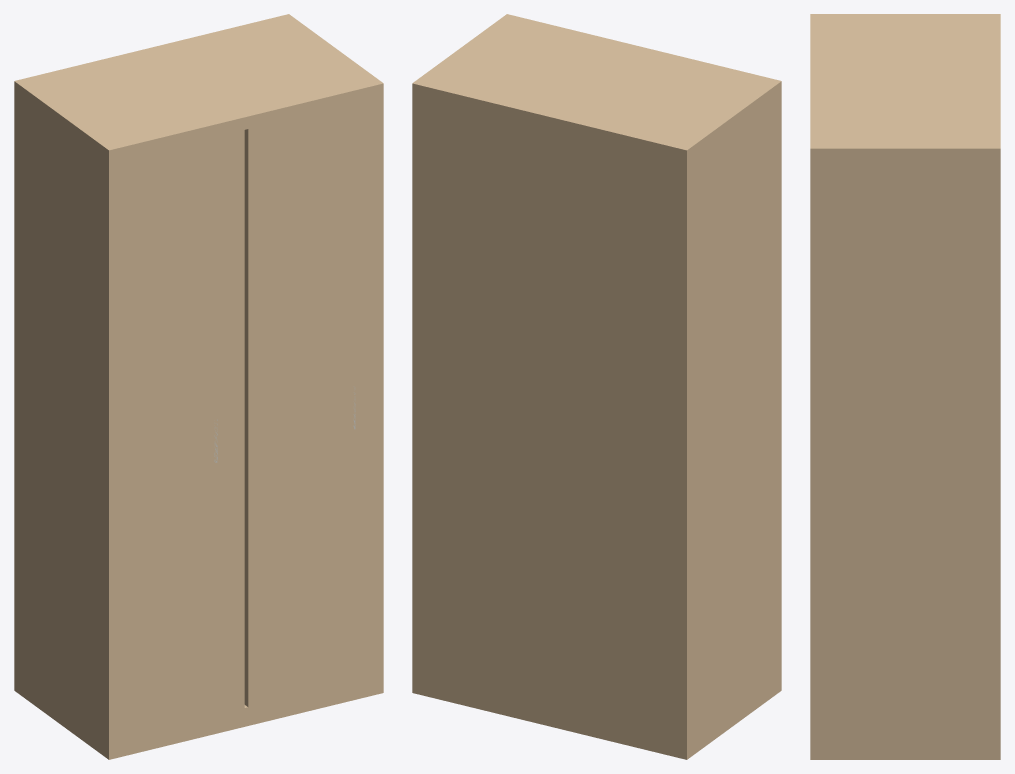
File: f-bed4-o02-544827083d.glb
The picture shows the model from 3 angles, left to right: view 1: azimuth 30°, elevation 25°; view 2: azimuth 150°, elevation 25°; view 3: azimuth 270°, elevation 25°; orthographic projection.
Parts seen in each view (by area): view 1: door-panel-2, door-panel-1, part-03, part-02, part-04, part-01, part-00; view 2: part-00, part-03, part-02, part-04, part-01; view 3: part-04, part-02, part-00, part-01, part-03.
Boxes of the visible parts, <box> form: door-panel-2: <box>244,97,381,713</box>; door-panel-1: <box>110,130,244,738</box>; part-03: <box>14,79,120,758</box>; part-02: <box>14,14,383,162</box>; part-04: <box>277,14,383,695</box>; part-01: <box>15,675,383,759</box>; part-00: <box>14,14,294,694</box>; part-00: <box>412,79,692,759</box>; part-03: <box>675,78,781,754</box>; part-02: <box>412,14,781,162</box>; part-04: <box>412,14,518,694</box>; part-01: <box>413,672,781,759</box>; part-04: <box>810,142,1000,741</box>; part-02: <box>810,14,1000,160</box>; part-00: <box>988,14,1000,741</box>; part-01: <box>810,741,1000,759</box>; part-03: <box>810,14,1000,19</box>.
Bounding box in the file's own units: 0.92 × 1.95 × 0.55.
